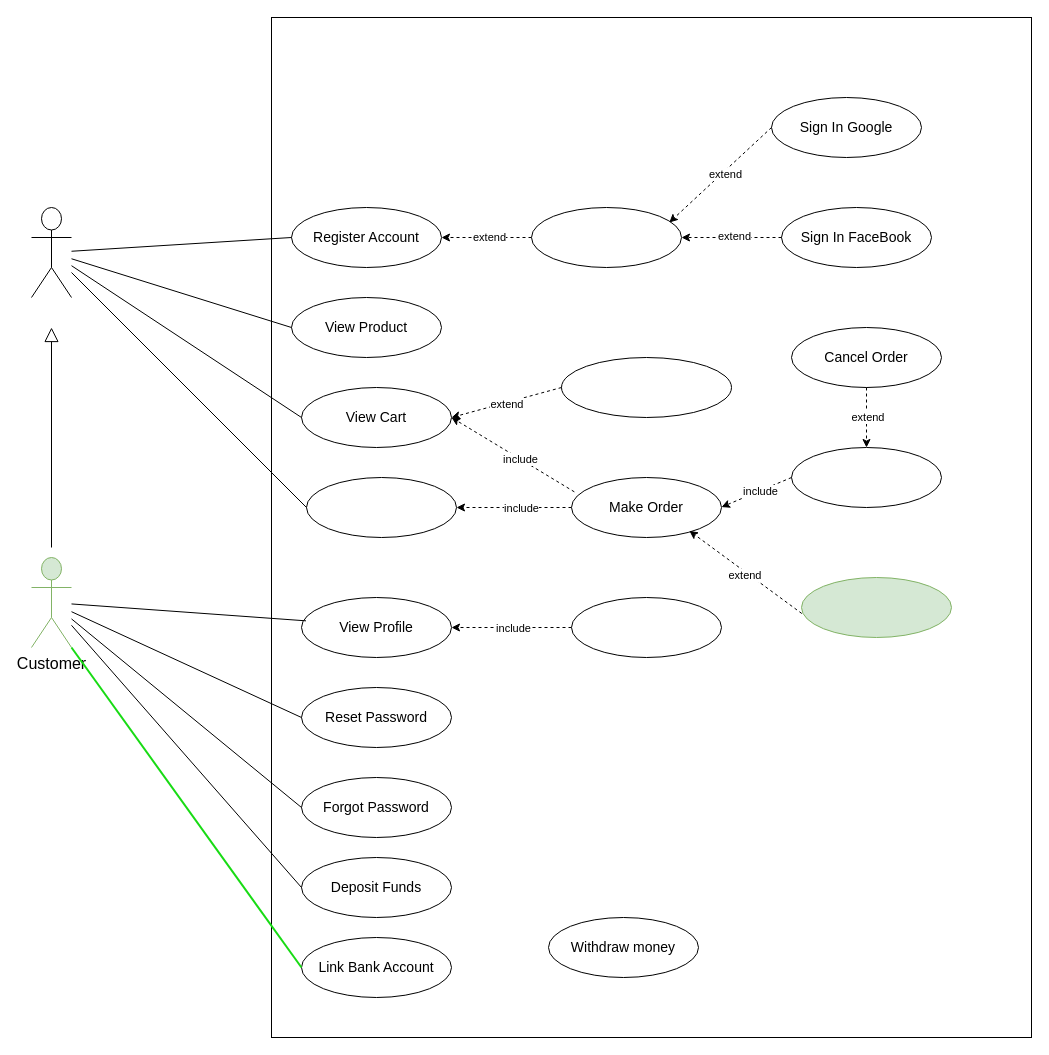
Some shapes in this 1049 by 1055 pixel diagram are drawn without their labels. Here are the shapes that lost their labels. From the top down, the centre of each, then its label:
At [51,252]: "Guest".
At [606,237]: "Login".
At [646,387]: "Remove Item from Cart".
At [866,477]: "Check out".
At [381,507]: "Add to cart".
At [646,627]: "Update Profile".
At [876,607]: "View Order".
